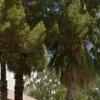Tree: (12, 0, 93, 80)
